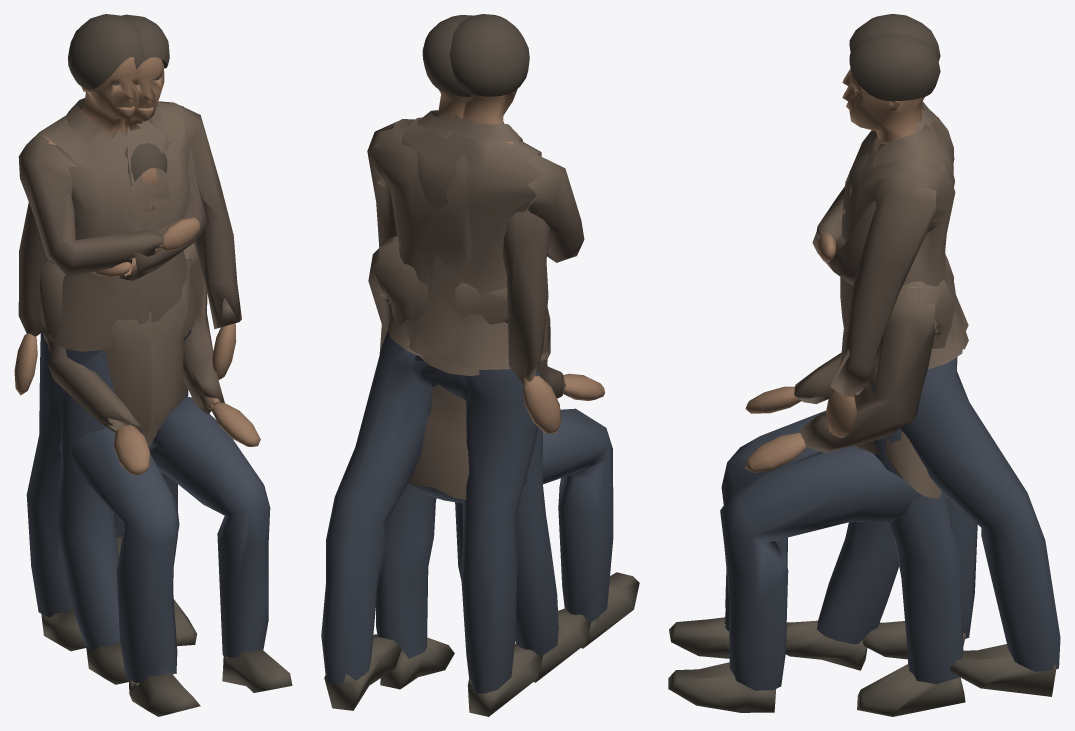
The model's file is crowd-06-far.glb.
3 views of the same model, side by side, from view 1: azimuth 30°, elevation 25°; view 2: azimuth 150°, elevation 25°; view 3: azimuth 270°, elevation 25° (orthographic). The views are drawn at different scales.
Visible parts, largest first — view 1: seated, standing, walking; view 2: standing, walking, seated; view 3: walking, seated, standing.
Part boxes in pixels (<box>): seated: <box>40,143,292,716</box>; standing: <box>18,14,208,651</box>; walking: <box>14,14,241,684</box>; standing: <box>376,14,584,716</box>; walking: <box>321,15,591,710</box>; seated: <box>368,236,639,648</box>; walking: <box>785,33,1060,696</box>; seated: <box>668,153,954,712</box>; standing: <box>812,14,977,716</box>.
Bounding box in the file's own units: 0.5463 × 1.71 × 0.9217.
